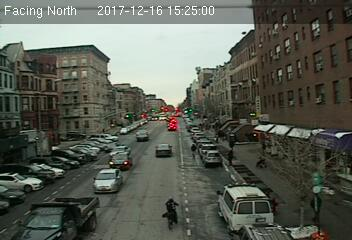bicycle: (161, 195, 181, 234)
car: (93, 167, 124, 194), (109, 153, 133, 167), (202, 151, 222, 166), (155, 143, 173, 157)
police: (216, 180, 276, 233)
truck: (13, 196, 101, 240)
